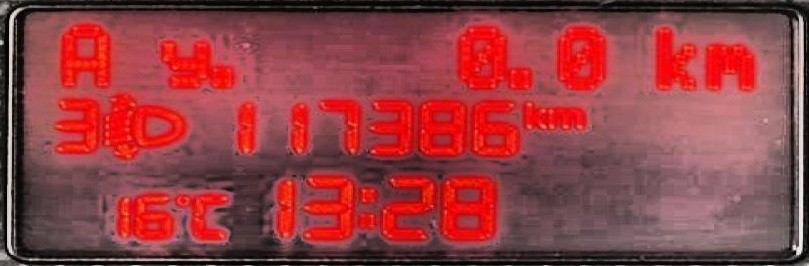-: (506, 63, 538, 92), (209, 61, 234, 91)
0: (455, 22, 507, 89), (553, 25, 605, 92)
1: (274, 173, 294, 238), (287, 100, 309, 154), (234, 98, 254, 156), (115, 192, 129, 237)
2: (380, 172, 435, 239)
3: (299, 173, 353, 241), (368, 98, 413, 156), (52, 95, 95, 154)
6: (469, 98, 518, 157), (134, 191, 172, 240)
7: (314, 96, 359, 156)
8: (440, 173, 497, 241), (415, 97, 467, 157)
X: (55, 21, 112, 86), (650, 23, 698, 91), (700, 41, 752, 91), (159, 37, 209, 87), (191, 191, 228, 240), (547, 103, 584, 131), (356, 182, 376, 229), (521, 98, 545, 131)
